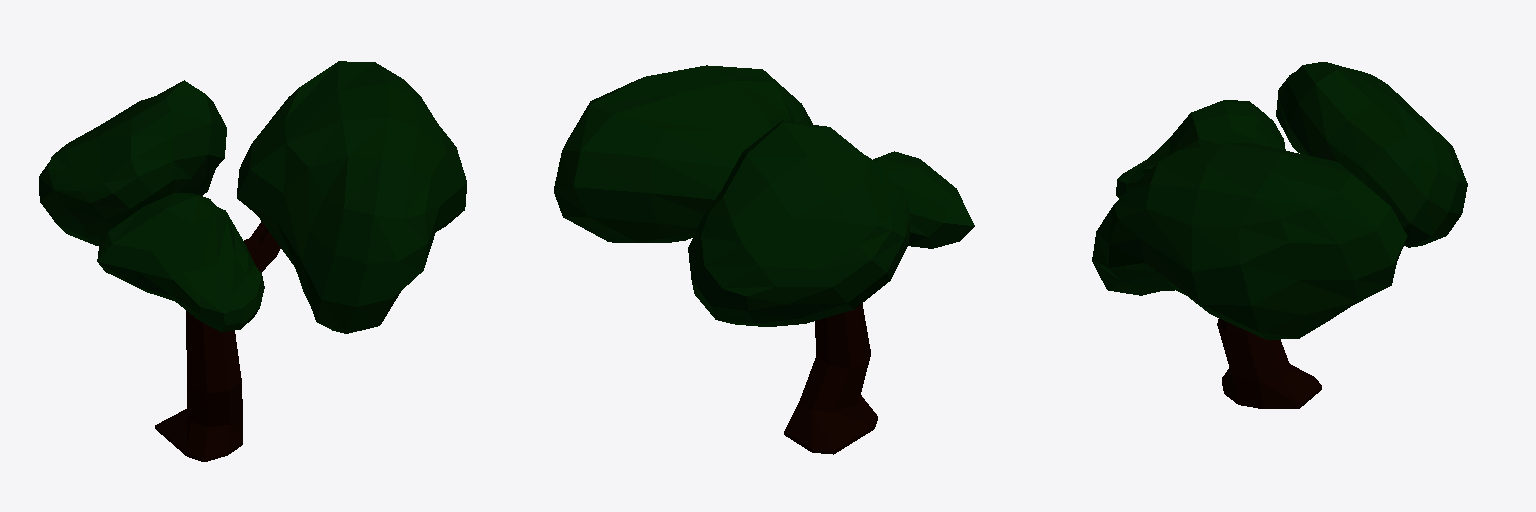
The model's file is tree_three_branches.obj.
3 views of the same model, side by side, from view 1: azimuth 30°, elevation 25°; view 2: azimuth 150°, elevation 25°; view 3: azimuth 270°, elevation 25° (orthographic).
Visible parts, largest first — view 1: 0, Cube.046, Cube.048, Cylinder.085; view 2: Cube.046, 0, Cylinder.085, Cube.048; view 3: 0, Cube.046, Cylinder.085, Cube.048.
Part boxes in pixels (x1,y1,x2,y2): 0: (237,61,466,333); Cube.046: (39,80,226,245); Cube.048: (97,193,264,331); Cylinder.085: (155,221,280,461); Cube.046: (688,120,910,326); 0: (554,65,812,242); Cylinder.085: (784,303,877,454); Cube.048: (873,151,974,248); 0: (1092,143,1407,339); Cube.046: (1276,62,1467,247); Cylinder.085: (1217,319,1321,408); Cube.048: (1116,100,1285,198).
Bounding box in the file's own units: 22.37 × 19.33 × 19.91.